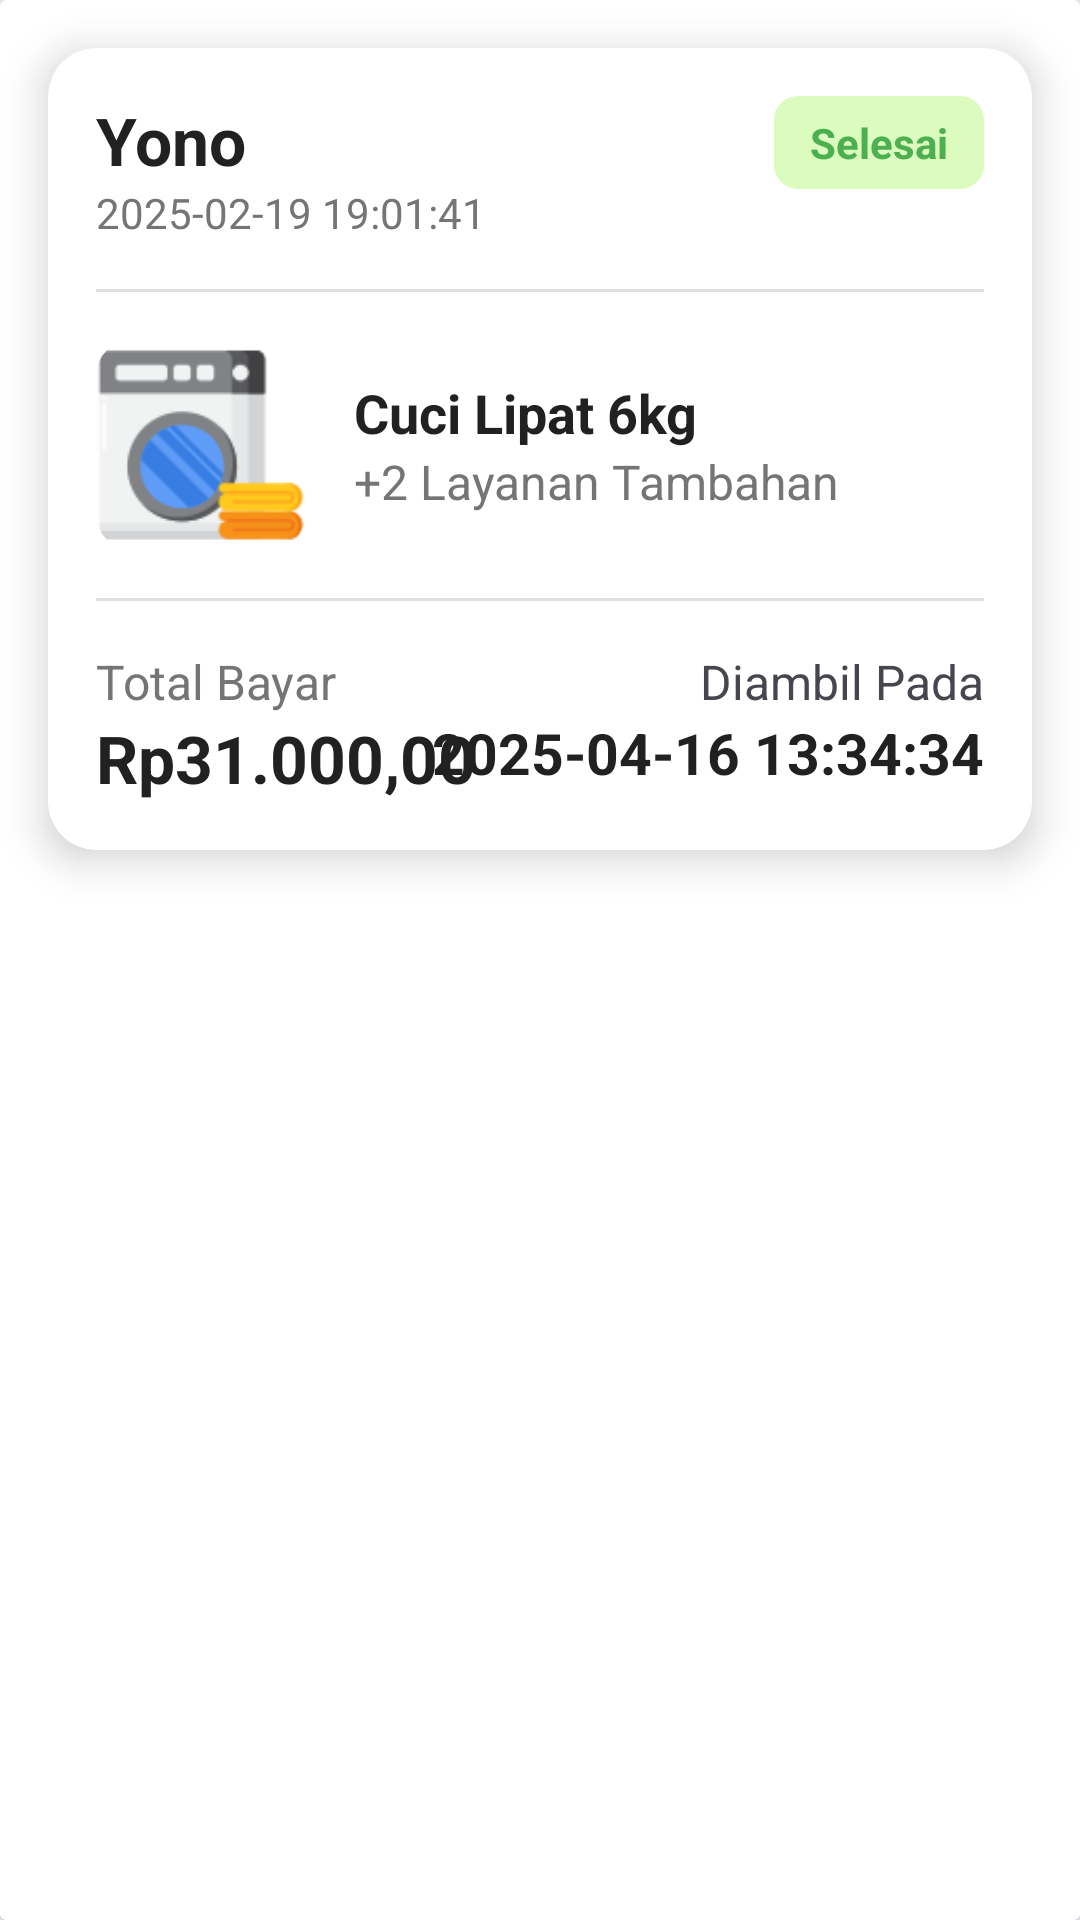

Icon click points for this 1080 x 1920 phone screenshot, format [x,y]:
mesincuci: [201,445]
